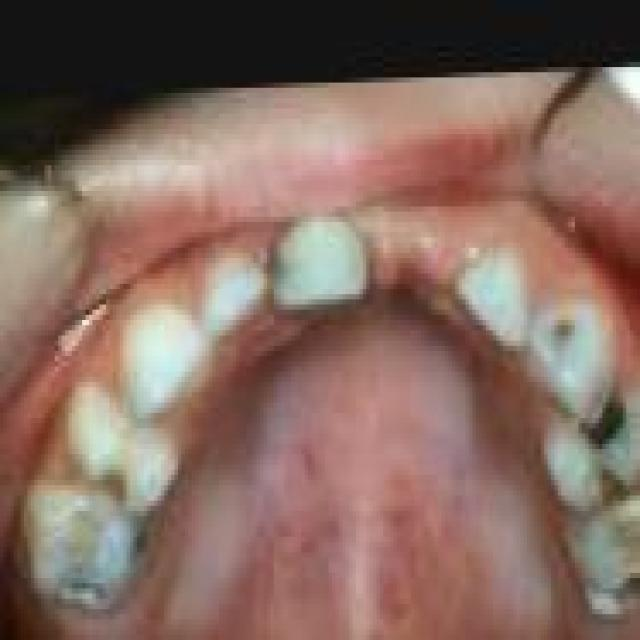caries: (29, 492, 140, 614), (564, 490, 640, 629), (575, 353, 631, 493), (541, 301, 593, 395), (245, 237, 299, 315)
